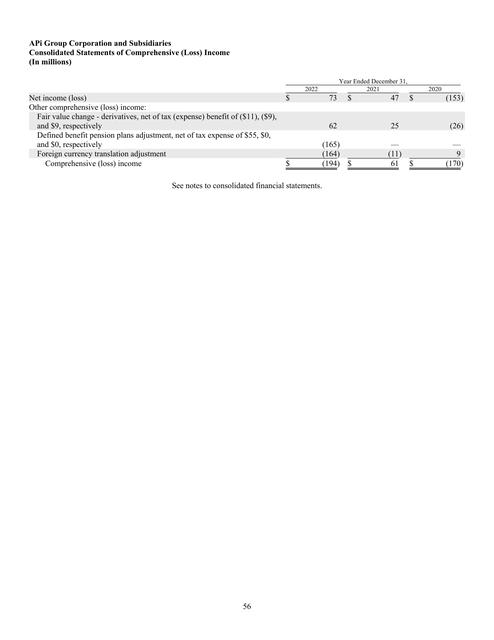box: (26, 77, 466, 191)
